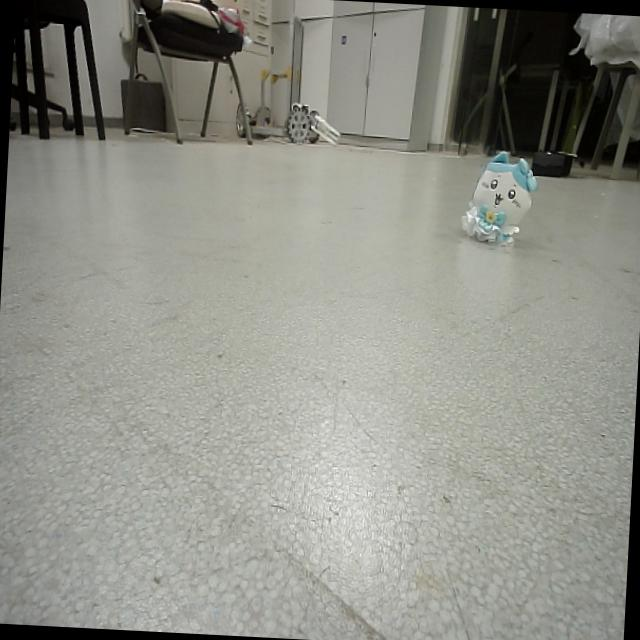xiaoba: (461, 141, 540, 251)
